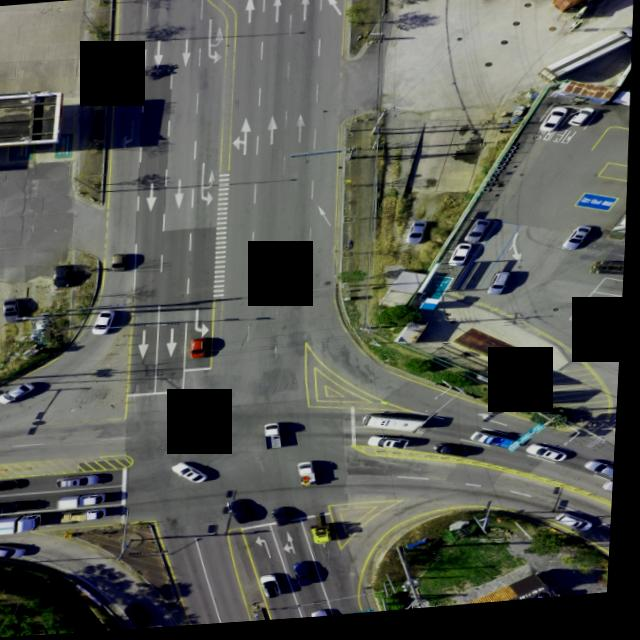car: (528, 450, 571, 471), (177, 463, 214, 486), (371, 438, 417, 456), (560, 518, 599, 539), (1, 383, 40, 403), (438, 447, 478, 466), (563, 233, 593, 258), (588, 464, 620, 486), (133, 605, 159, 631), (234, 500, 260, 525), (542, 114, 569, 138), (264, 580, 289, 605), (491, 277, 516, 301), (96, 313, 121, 337), (297, 565, 320, 591), (450, 248, 474, 271), (468, 226, 493, 248), (60, 478, 104, 490), (0, 542, 31, 559), (569, 116, 596, 135), (408, 227, 429, 251), (54, 265, 73, 290), (276, 511, 295, 532), (5, 299, 23, 320), (0, 480, 28, 493), (193, 340, 209, 361), (114, 255, 128, 273), (605, 489, 619, 505), (317, 613, 339, 621)
medium_truck: (538, 35, 632, 84), (0, 512, 43, 536), (593, 267, 628, 286)
small_bus: (366, 417, 433, 444)
small_truck: (471, 436, 524, 459), (60, 493, 109, 510), (65, 511, 112, 526), (300, 465, 321, 490), (267, 425, 287, 451), (0, 502, 30, 518)
